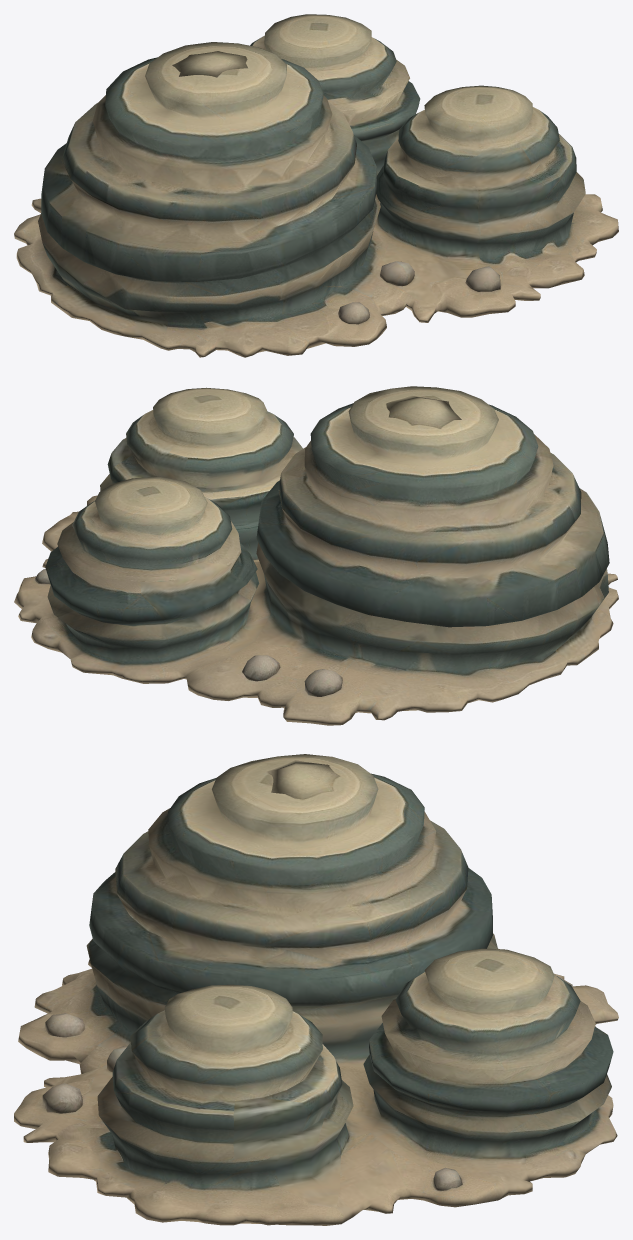
File: Terraced_Sandstone_Mo.glb
The picture shows the model from 3 angles, top to bottom: view 1: azimuth 30°, elevation 25°; view 2: azimuth 150°, elevation 25°; view 3: azimuth 270°, elevation 25°; orthographic projection. The views are drawn at different scales.
Size of the model in its own units: 1 by 0.4092 by 0.8633.
Materials: 1 (1 with a texture image).
